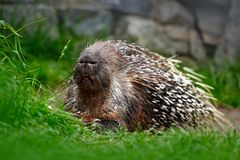porcupine: (63, 37, 228, 148)
